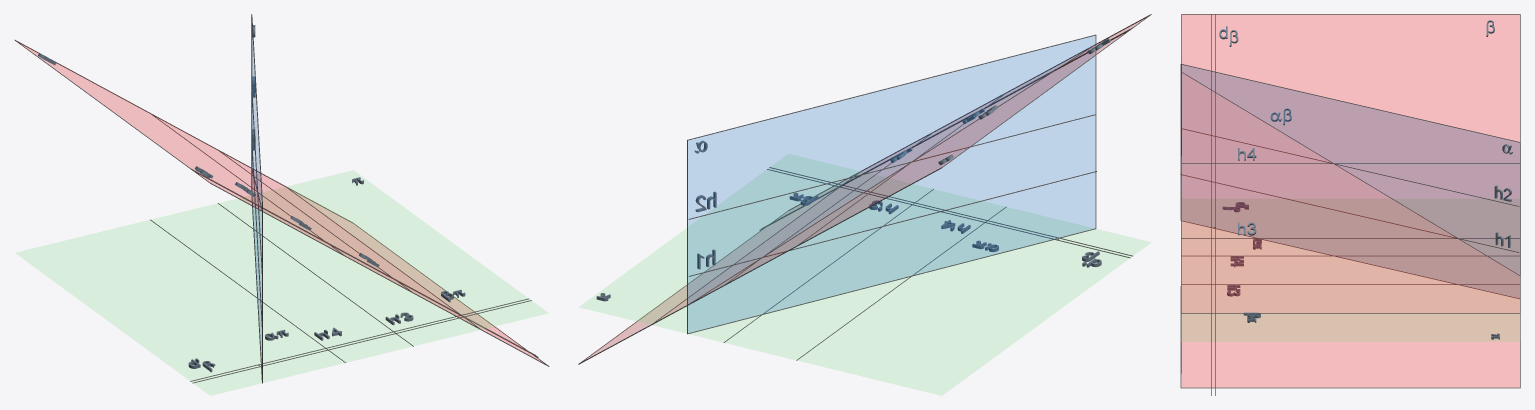
Rendered from int_pq_pvN.glb.
The picture shows the model from 3 angles, left to right: view 1: azimuth 30°, elevation 25°; view 2: azimuth 150°, elevation 25°; view 3: azimuth 270°, elevation 25°; orthographic projection. The views are drawn at different scales.
Parts seen in each view (by area): view 1: root, Pipe (×5); view 2: root, Pipe (×9); view 3: root, Pipe (×15).
Part boxes in pixels (x1,y1,x2,y2): root: [16, 35, 547, 395]; Pipe (×5): [15, 40, 549, 383]; root: [580, 18, 1150, 395]; Pipe (×9): [578, 14, 1150, 364]; root: [1181, 15, 1519, 387]; Pipe (×15): [1180, 14, 1520, 395].
Size of the model in its own units: 2.6 by 1.95 by 2.55.
